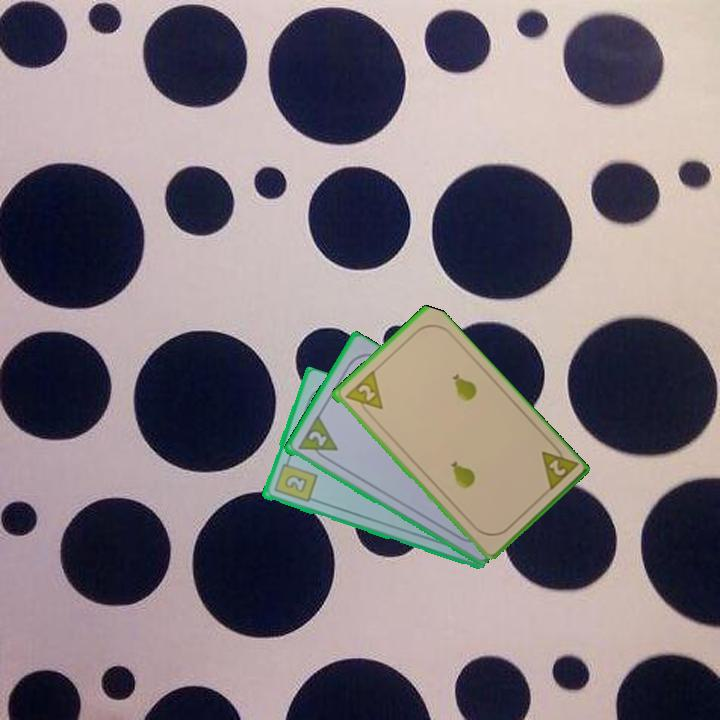2b: (270, 455, 319, 505)
2p: (340, 368, 386, 420), (304, 427, 330, 450), (545, 455, 569, 479)
